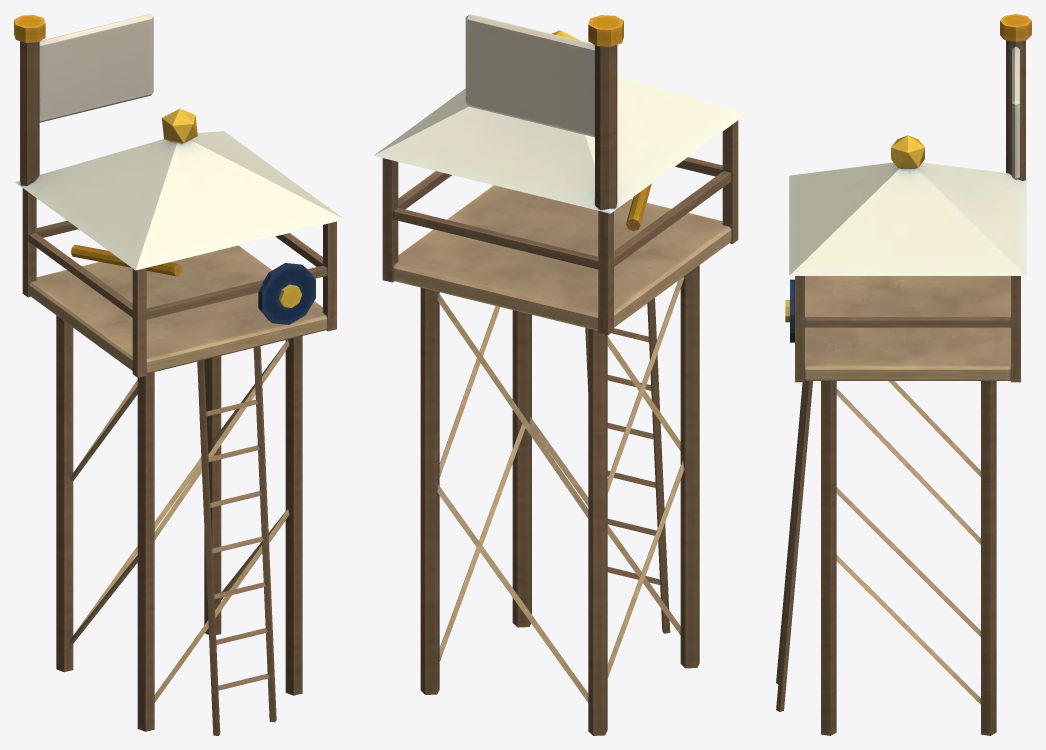
Rendered from watchtower-3-age1.glb.
3 renders of one model, left to right at view 1: azimuth 30°, elevation 25°; view 2: azimuth 150°, elevation 25°; view 3: azimuth 270°, elevation 25°, orthographic. The views are drawn at different scales.
Visible parts, largest first — view 1: watchtower-3-age1; view 2: watchtower-3-age1; view 3: watchtower-3-age1.
Boxes of the visible parts, left/top/right/bottom form: watchtower-3-age1: left=14, top=14, right=344, bottom=735; watchtower-3-age1: left=373, top=14, right=747, bottom=735; watchtower-3-age1: left=776, top=14, right=1031, bottom=735.
Bounding box in the file's own units: 0.607 × 1.74 × 0.64.
1 material, 1 textured.
